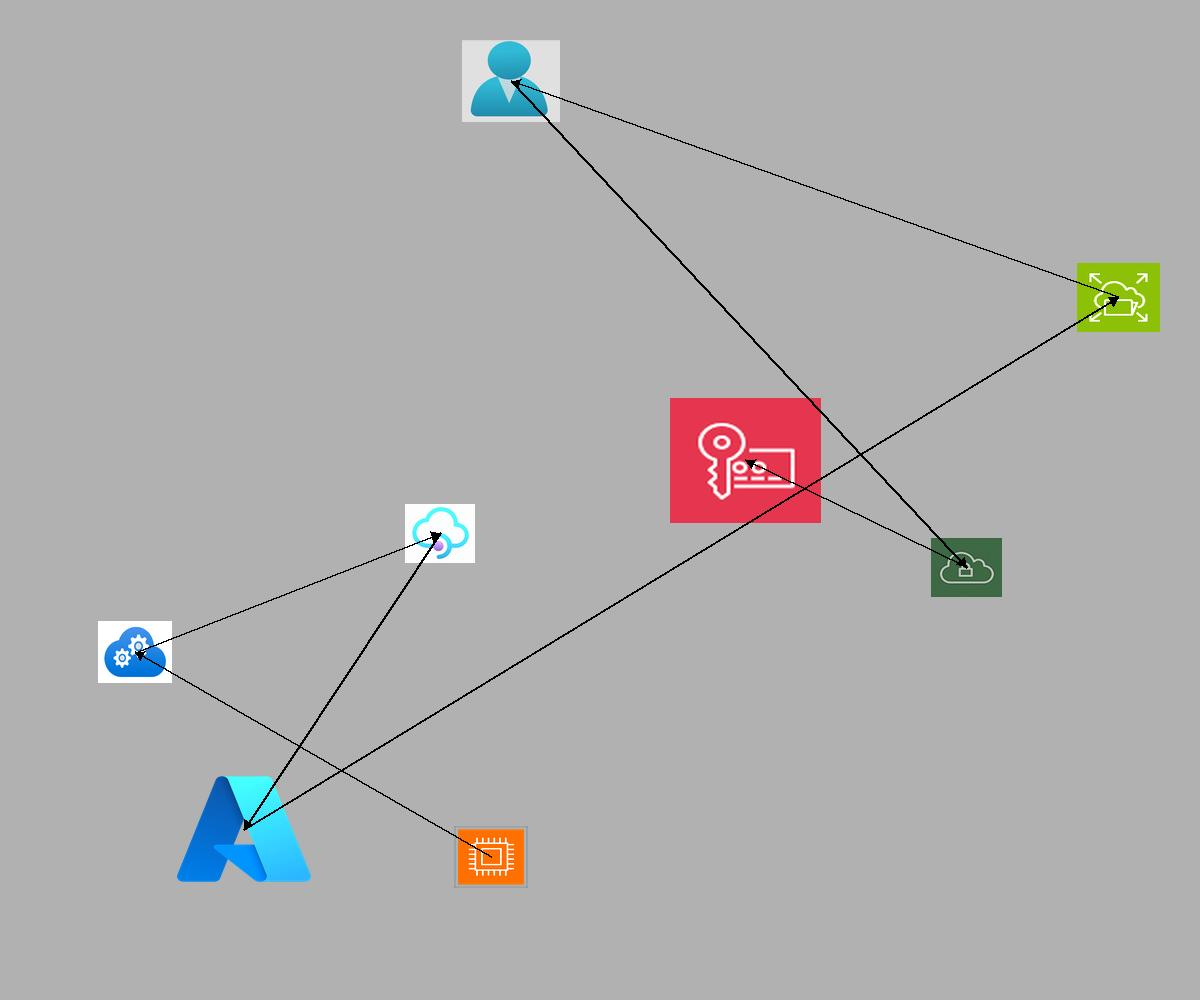AWS-Category_Compute: (454, 826, 528, 888)
AWS-EFS: (1077, 263, 1160, 332)
AWS-Key-Management-Service: (670, 398, 821, 523)
AWS-Private_vpc: (931, 538, 1002, 597)
Azure_api_gateway: (405, 504, 475, 563)
Azure_cloud_services: (98, 621, 172, 683)
Azure_services: (171, 768, 317, 890)
Azure_users: (462, 40, 560, 122)
